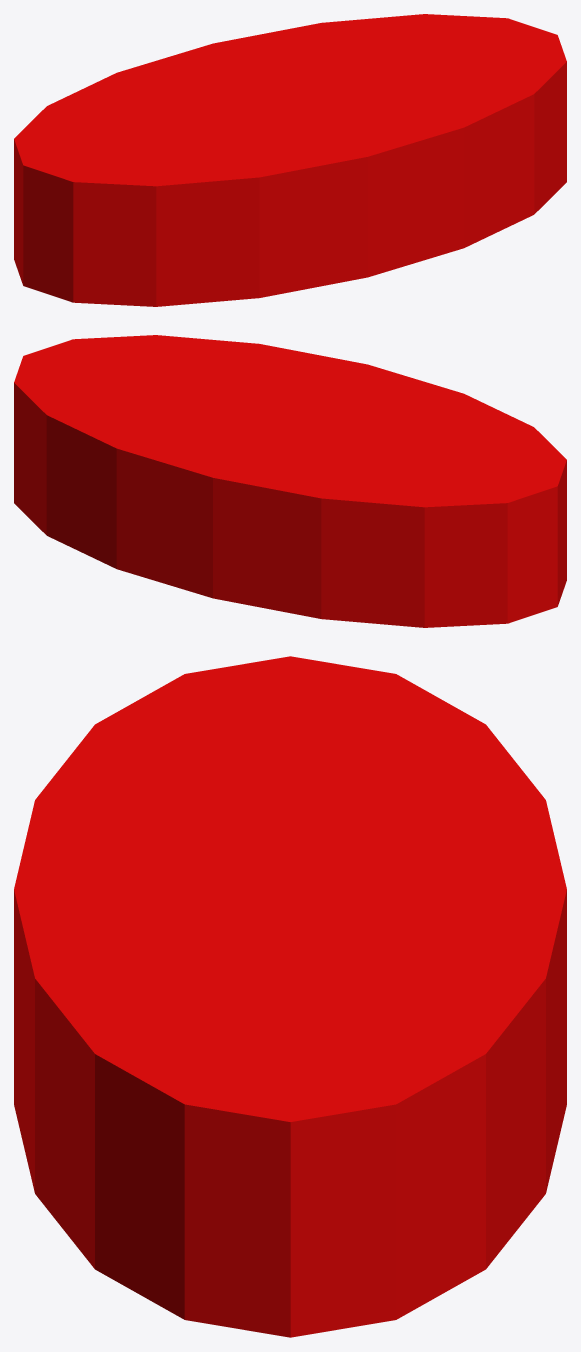
The model's file is Prop_ShapeSortingBlock_Oval.fbx.
3 renders of one model, top to bottom at view 1: azimuth 30°, elevation 25°; view 2: azimuth 150°, elevation 25°; view 3: azimuth 270°, elevation 25°, orthographic. The views are drawn at different scales.
Visible parts, largest first — view 1: Prop_ShapeSortingBlock_Oval; view 2: Prop_ShapeSortingBlock_Oval; view 3: Prop_ShapeSortingBlock_Oval.
Boxes of the visible parts, left/top/right/bottom form: Prop_ShapeSortingBlock_Oval: left=14, top=14, right=566, bottom=306; Prop_ShapeSortingBlock_Oval: left=14, top=335, right=566, bottom=627; Prop_ShapeSortingBlock_Oval: left=14, top=656, right=566, bottom=1337.
Bounding box in the file's own units: 18.53 × 4 × 9.3.
